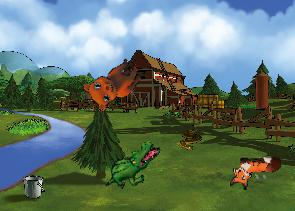bear: (78, 47, 146, 117)
crocodile: (103, 131, 162, 200)
fox: (229, 155, 281, 190)
